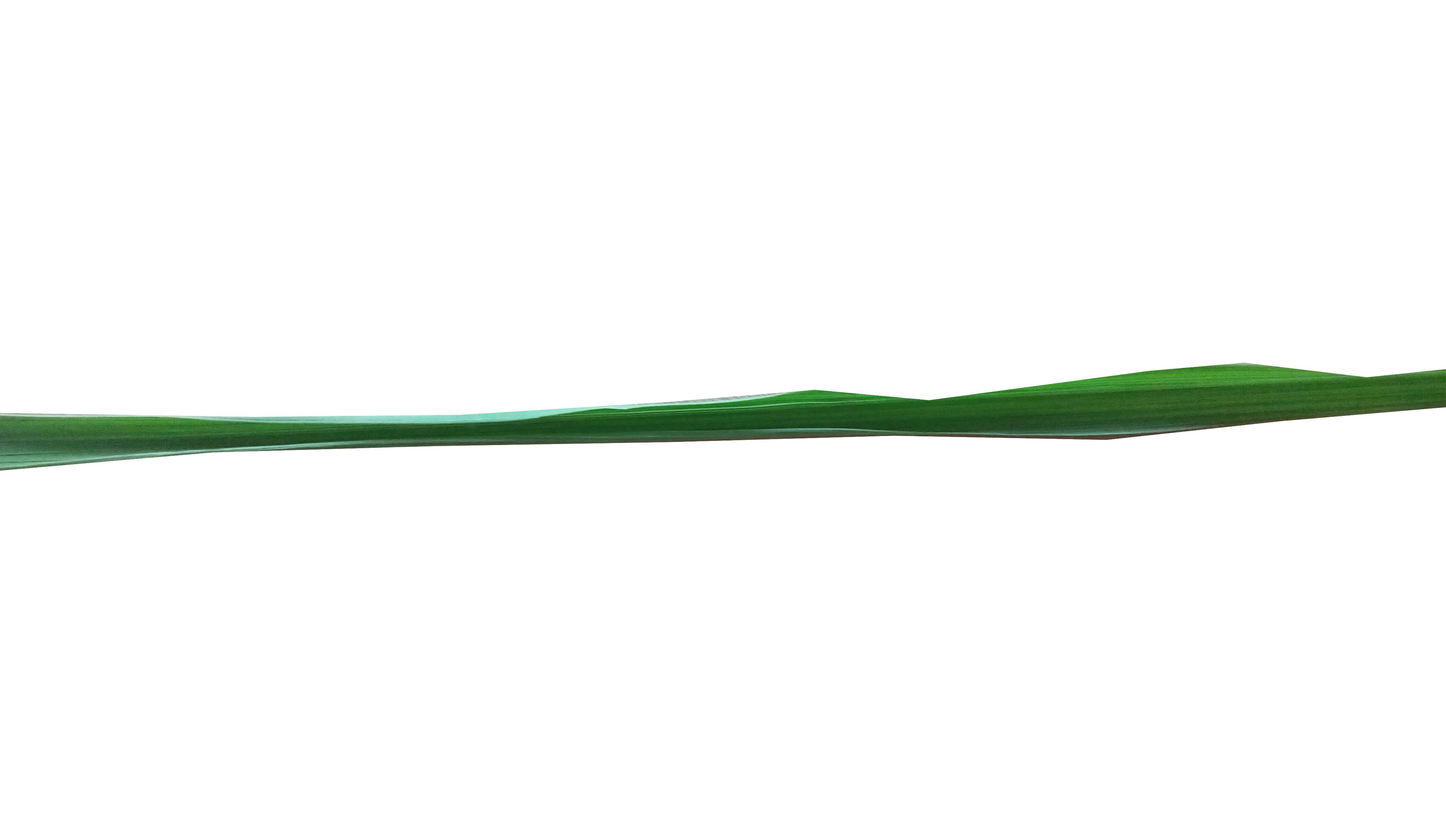Healthy: (0, 366, 1446, 471)
